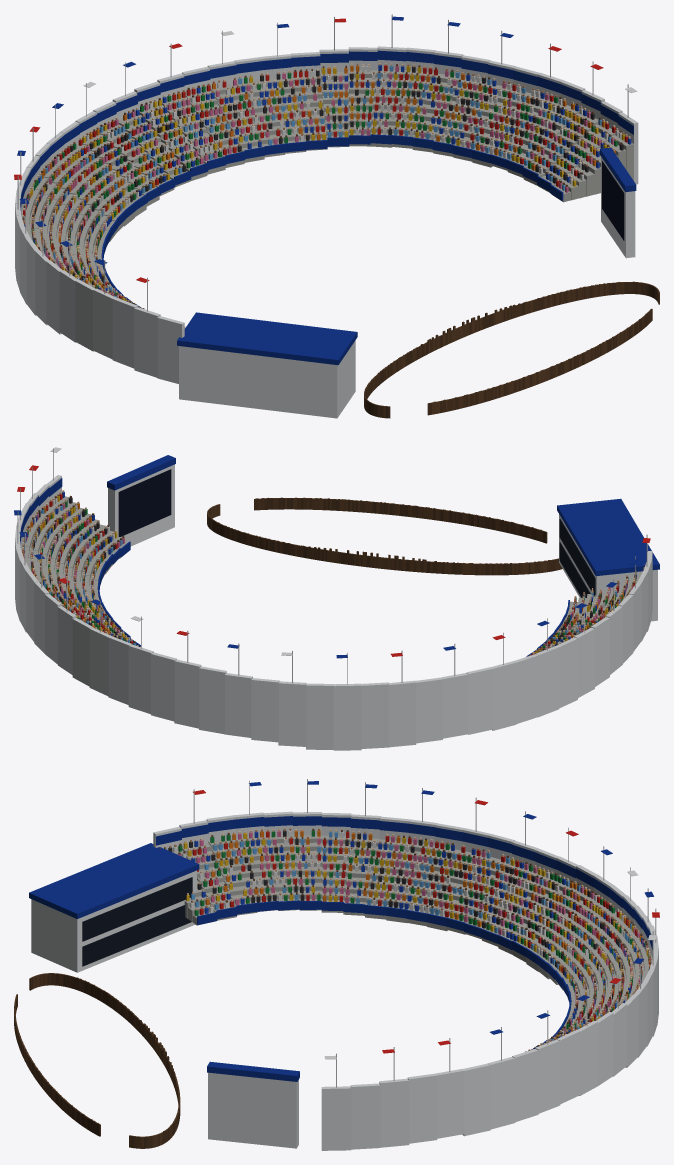
The model's file is SM_H18_Stadium.fbx.
3 renders of one model, top to bottom at view 1: azimuth 30°, elevation 25°; view 2: azimuth 150°, elevation 25°; view 3: azimuth 270°, elevation 25°, orthographic. The views are drawn at different scales.
Visible parts, largest first — view 1: SM_H18_Stadium; view 2: SM_H18_Stadium; view 3: SM_H18_Stadium.
Boxes of the visible parts, x1,y1,x2,y2 form: SM_H18_Stadium: (14, 14, 659, 418); SM_H18_Stadium: (14, 447, 659, 750); SM_H18_Stadium: (14, 779, 659, 1150).
Bounding box in the file's own units: 81.34 × 17.92 × 77.72.
